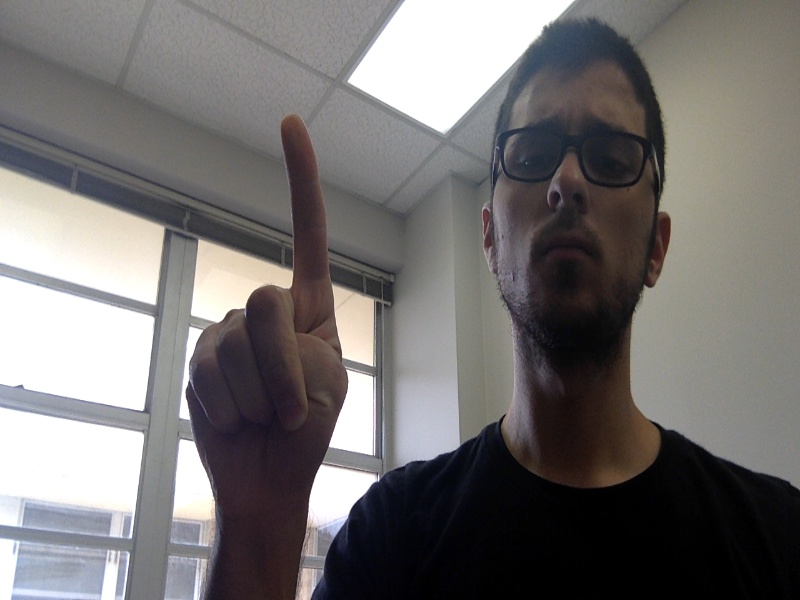1-hand: (184, 114, 347, 494)
